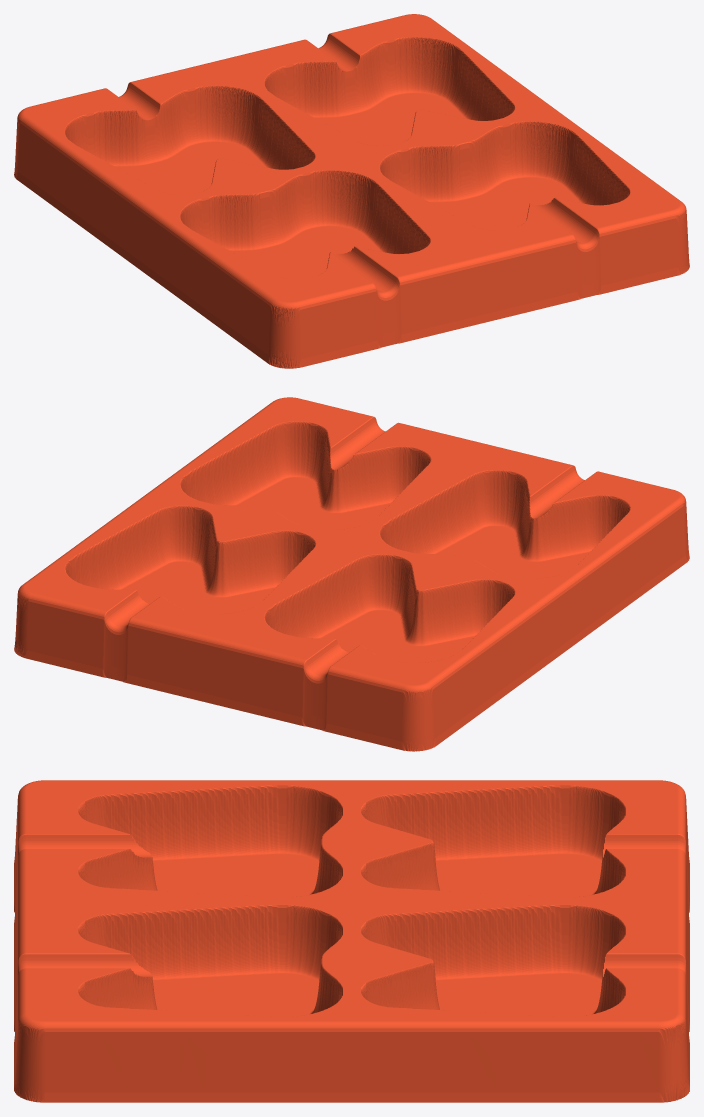
File: mold.glb
The picture shows the model from 3 angles, top to bottom: view 1: azimuth 30°, elevation 25°; view 2: azimuth 150°, elevation 25°; view 3: azimuth 270°, elevation 25°; orthographic projection. The views are drawn at different scales.
Parts seen in each view (by area): view 1: geometry_0; view 2: geometry_0; view 3: geometry_0.
Boxes of the visible parts, x1,y1,x2,y2 form: geometry_0: [14, 14, 689, 368]; geometry_0: [14, 397, 689, 751]; geometry_0: [14, 780, 689, 1102].
Size of the model in its own units: 0.1726 by 0.0245 by 0.1968.
